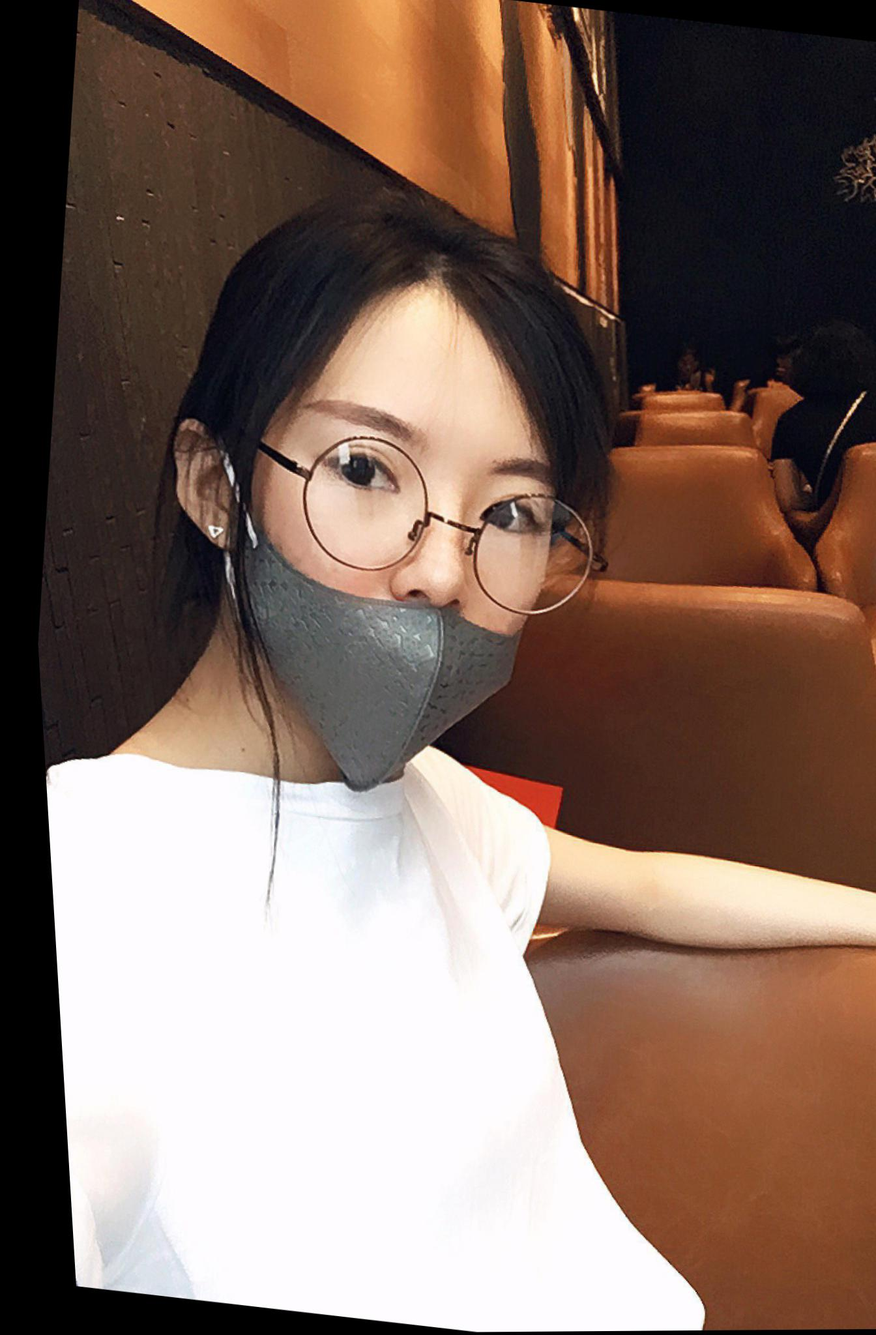WRONG: (216, 342, 591, 777)
